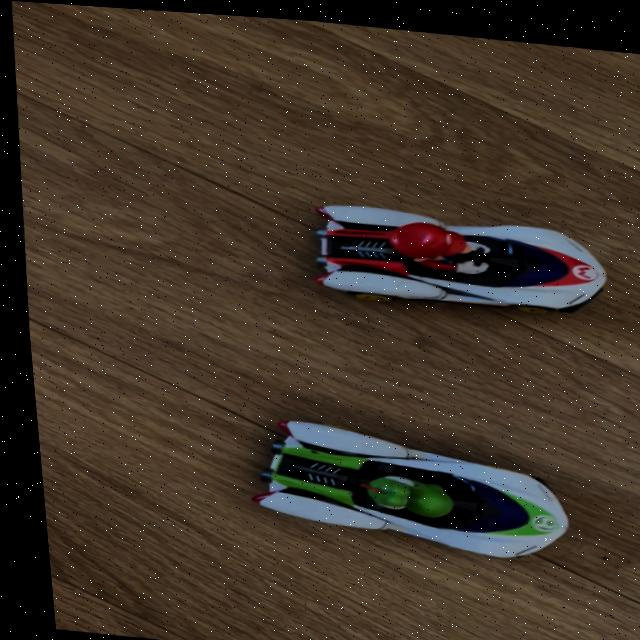mario: (300, 188, 615, 322)
yoshi: (227, 415, 593, 566)
